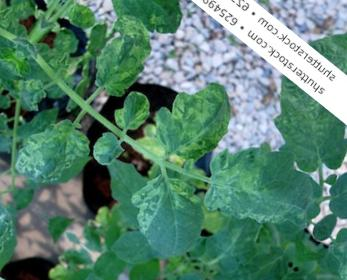Tomato leaf mosaic virus: (189, 117, 339, 265), (111, 158, 226, 273), (139, 63, 251, 178), (4, 99, 112, 210), (75, 8, 166, 102), (100, 0, 195, 53), (108, 82, 163, 139), (87, 127, 132, 173)
